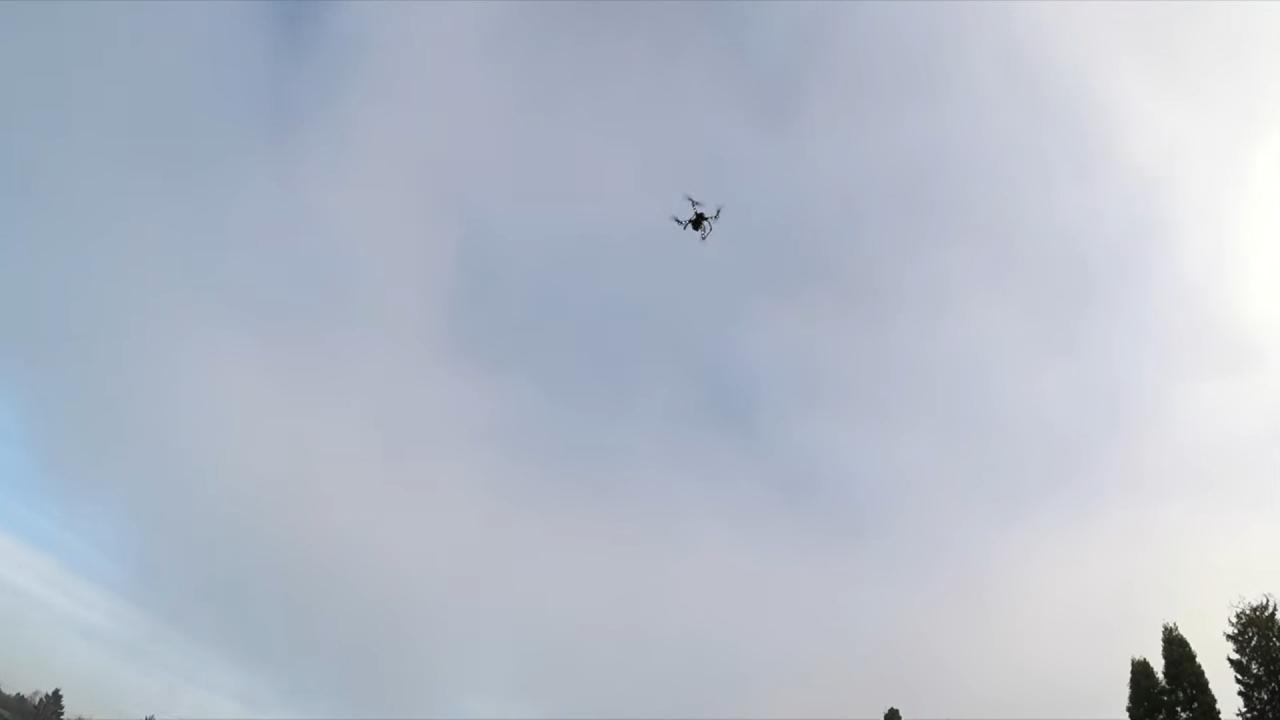Drone: (660, 189, 731, 248)
